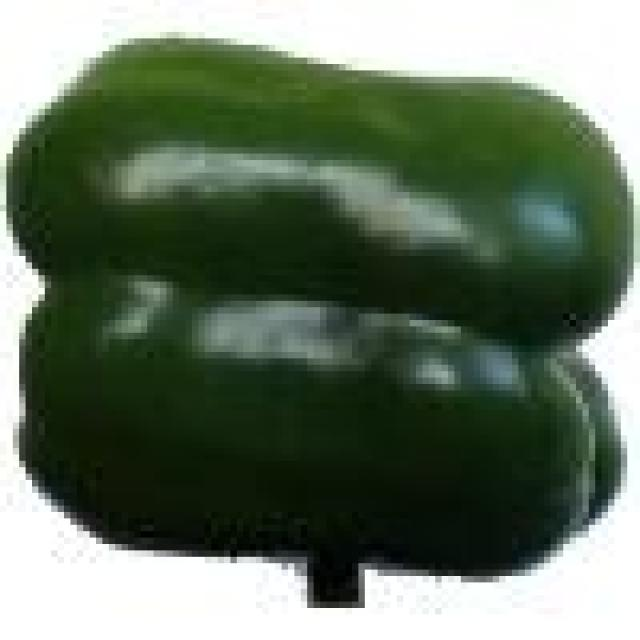Bell Pepper: (13, 38, 627, 570)
